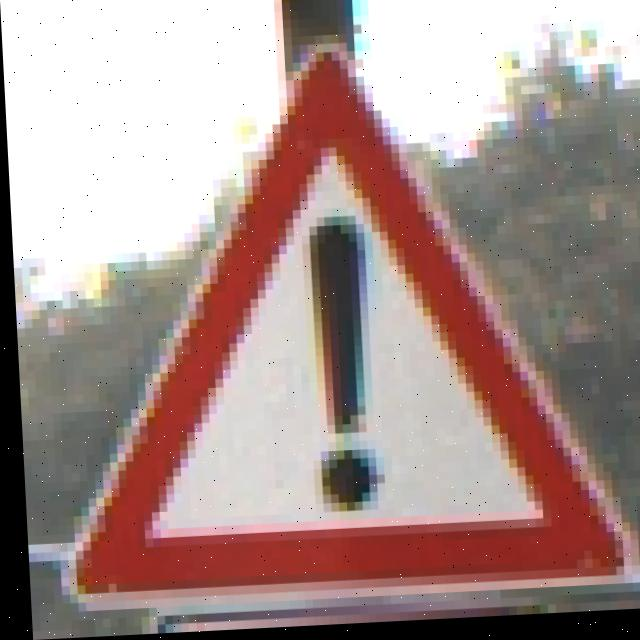warning: (117, 41, 626, 602)
